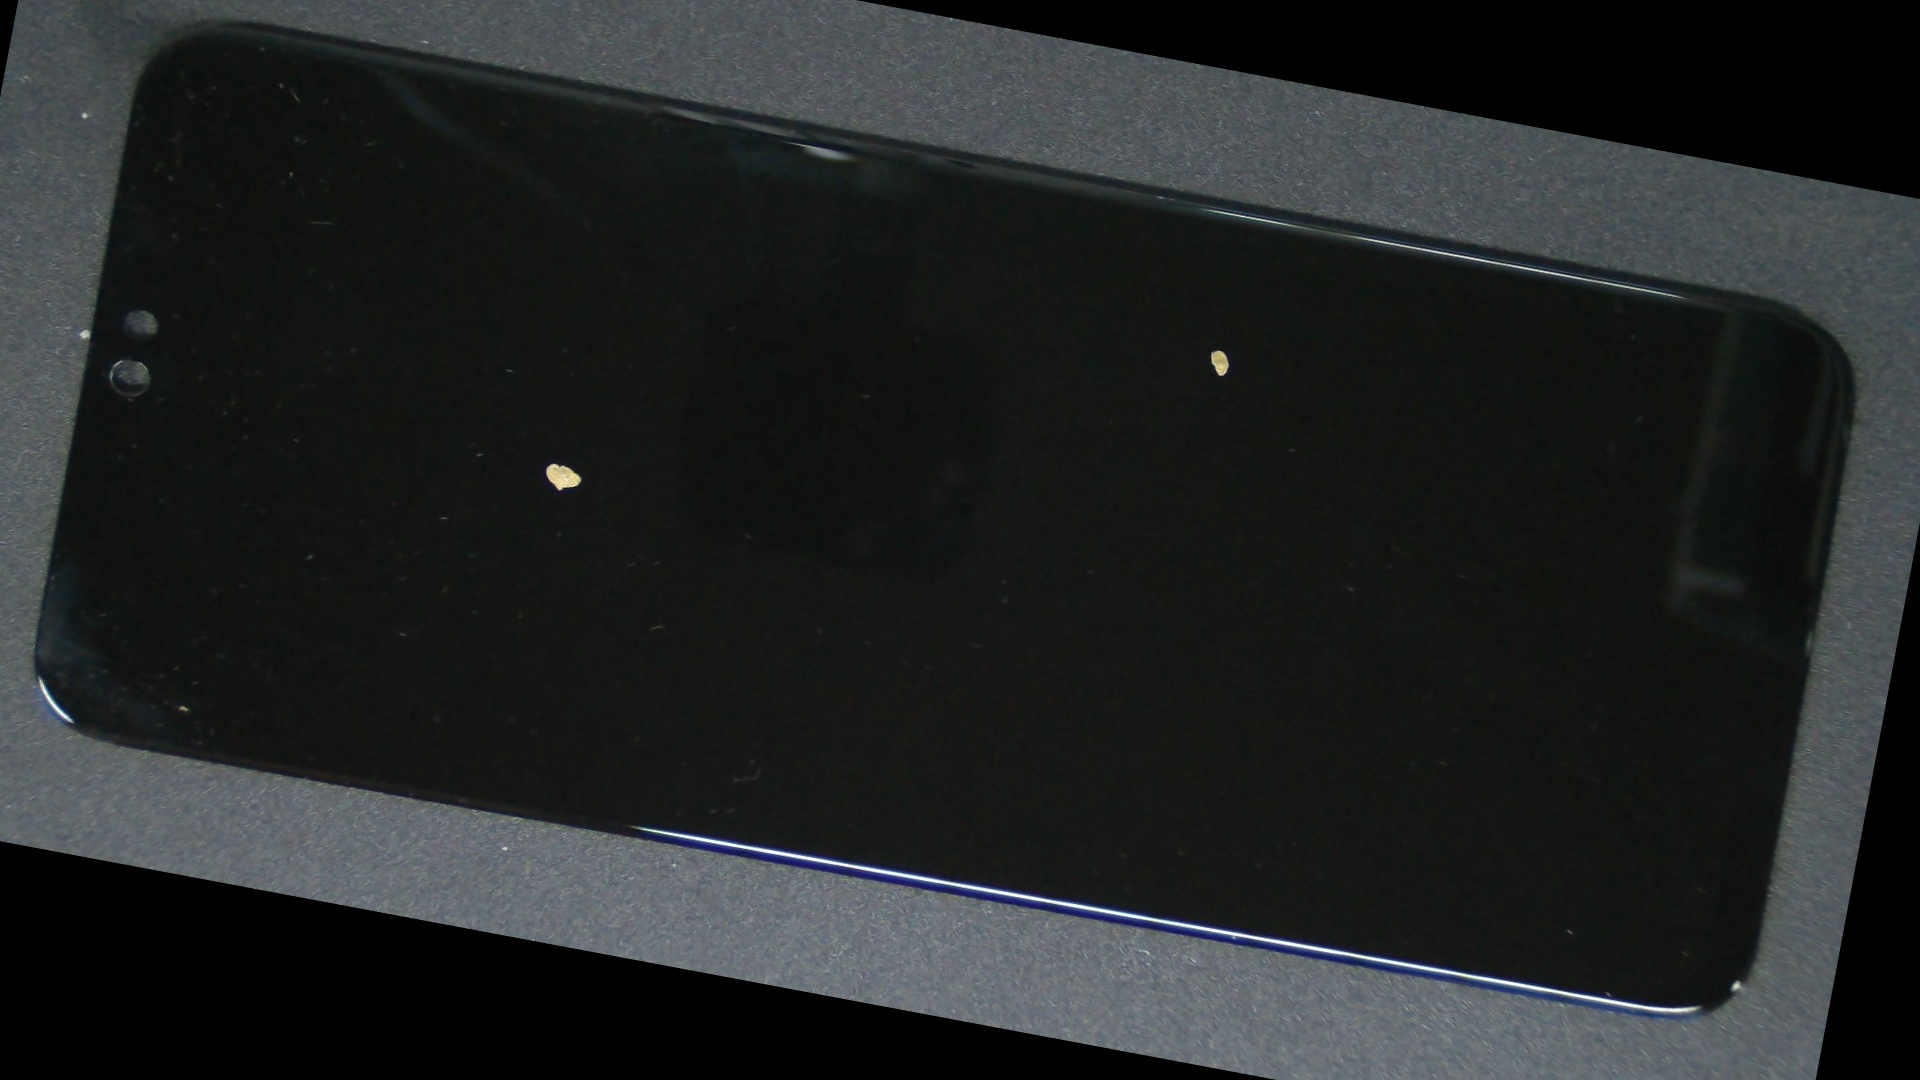oil: (582, 99, 1854, 599), (207, 156, 901, 770)
